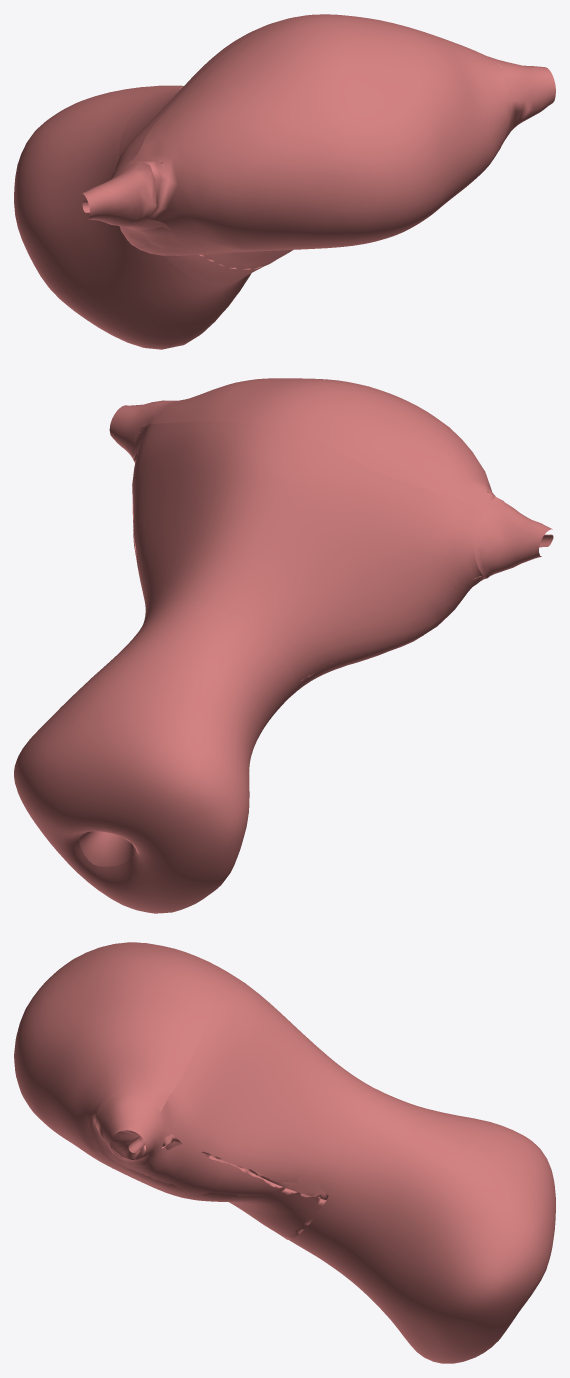
Rendered from vh_f_uterus-80.glb.
3 views of the same model, one above another, from view 1: azimuth 30°, elevation 25°; view 2: azimuth 150°, elevation 25°; view 3: azimuth 270°, elevation 25° (orthographic). The views are drawn at different scales.
Parts seen in each view (by area): view 1: VH_F_fundus_of_uterus, VH_F_cervix, VH_F_cornua, VH_F_posterior_wall_of_uterus, VH_F_lower_uterine_segment, VH_F_body_of_uterus; view 2: VH_F_body_of_uterus, VH_F_cervix, VH_F_fundus_of_uterus, VH_F_lower_uterine_segment, VH_F_cornua, VH_F_external_cervical_os; view 3: VH_F_cervix, VH_F_body_of_uterus, VH_F_fundus_of_uterus, VH_F_lower_uterine_segment, VH_F_posterior_wall_of_uterus, VH_F_cornua, VH_F_anterior_wall_of_uterus.
Boxes of the visible parts, x1,y1,x2,y2 form: VH_F_fundus_of_uterus: (132,14,516,248); VH_F_cervix: (14,85,251,349); VH_F_cornua: (82,58,555,227); VH_F_posterior_wall_of_uterus: (140,147,500,269); VH_F_lower_uterine_segment: (119,87,262,285); VH_F_body_of_uterus: (114,18,511,268); VH_F_body_of_uterus: (132,421,486,694); VH_F_cervix: (14,642,261,913); VH_F_fundus_of_uterus: (142,378,495,513); VH_F_lower_uterine_segment: (124,600,296,737); VH_F_cornua: (109,400,552,578); VH_F_external_cervical_os: (79,831,136,866); VH_F_cervix: (332,1106,555,1363); VH_F_body_of_uterus: (112,962,366,1213); VH_F_fundus_of_uterus: (14,942,217,1163); VH_F_lower_uterine_segment: (289,1083,419,1266); VH_F_posterior_wall_of_uterus: (40,1119,326,1239); VH_F_cornua: (95,942,164,1164); VH_F_anterior_wall_of_uterus: (162,1134,328,1199).
Bounding box in the file's own units: 0.0525 × 0.047 × 0.0587.
